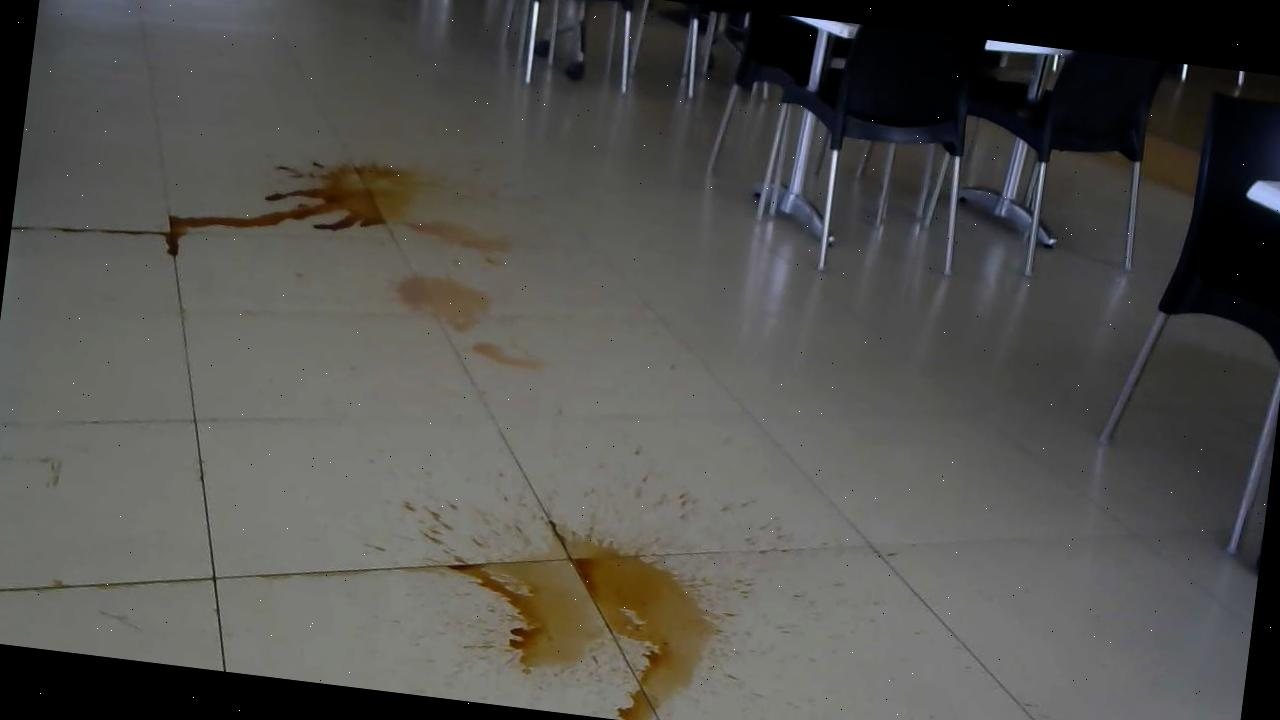dirty_floor: (356, 445, 776, 717), (155, 131, 538, 282), (388, 267, 560, 377)
